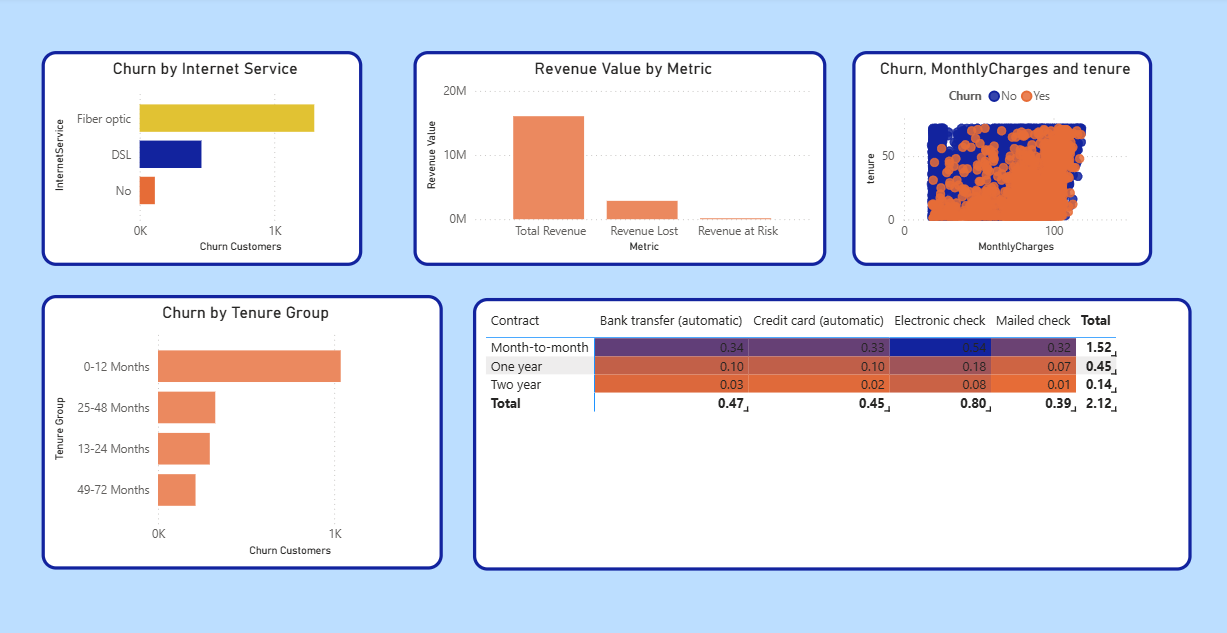

What the dashboard file says about the page in this screenshot:
{"tool":"powerbi","page":{"name":"Revenue & Customer Insights","canvas":[1280,720],"ordinal":2},"visuals":[{"type":"clusteredBarChart","title":"Churn by Internet Service","fields":{"Category":["Telco.InternetService"],"Y":["Telco.Churn Customers"]},"box":[49,57.7,332.2,222.8],"z":1},{"type":"scatterChart","fields":{"Series":["Telco.Churn"],"X":["Telco.MonthlyCharges"],"Y":["Telco.tenure"]},"box":[888.5,57.7,310.4,222.8],"z":3},{"type":"clusteredColumnChart","fields":{"Category":["Revenue Metrics.Metric"],"Y":["Telco.Revenue Value"]},"box":[433.7,57.7,427.7,222.8],"z":4},{"type":"clusteredBarChart","title":"Churn by Tenure Group","fields":{"Category":["Telco.Tenure Group"],"Y":["Telco.Churn Customers"]},"box":[49.7,310.4,415.8,284.5],"z":5},{"type":"pivotTable","fields":{"Rows":["Telco.Contract"],"Columns":["Telco.PaymentMethod"],"Values":["select","Telco.Churn Rate"]},"box":[495.4,312.3,744.1,282.5],"z":6}]}

Visuals, with their boxes on the page's 1280x720 design canvas (x1, y1, x2, y2). These are canvas units, not pixel positions in the 1227x633 screenshot, which may show the page scaled, cropped or inside an application window:
"Churn by Internet Service" clusteredBarChart: locate(49, 58, 381, 280)
scatterChart - Telco.Churn x Telco.MonthlyCharges: locate(888, 58, 1199, 280)
clusteredColumnChart - Revenue Metrics.Metric x Telco.Revenue Value: locate(434, 58, 861, 280)
"Churn by Tenure Group" clusteredBarChart: locate(50, 310, 466, 595)
pivotTable - Telco.Contract x Telco.PaymentMethod: locate(495, 312, 1240, 595)
